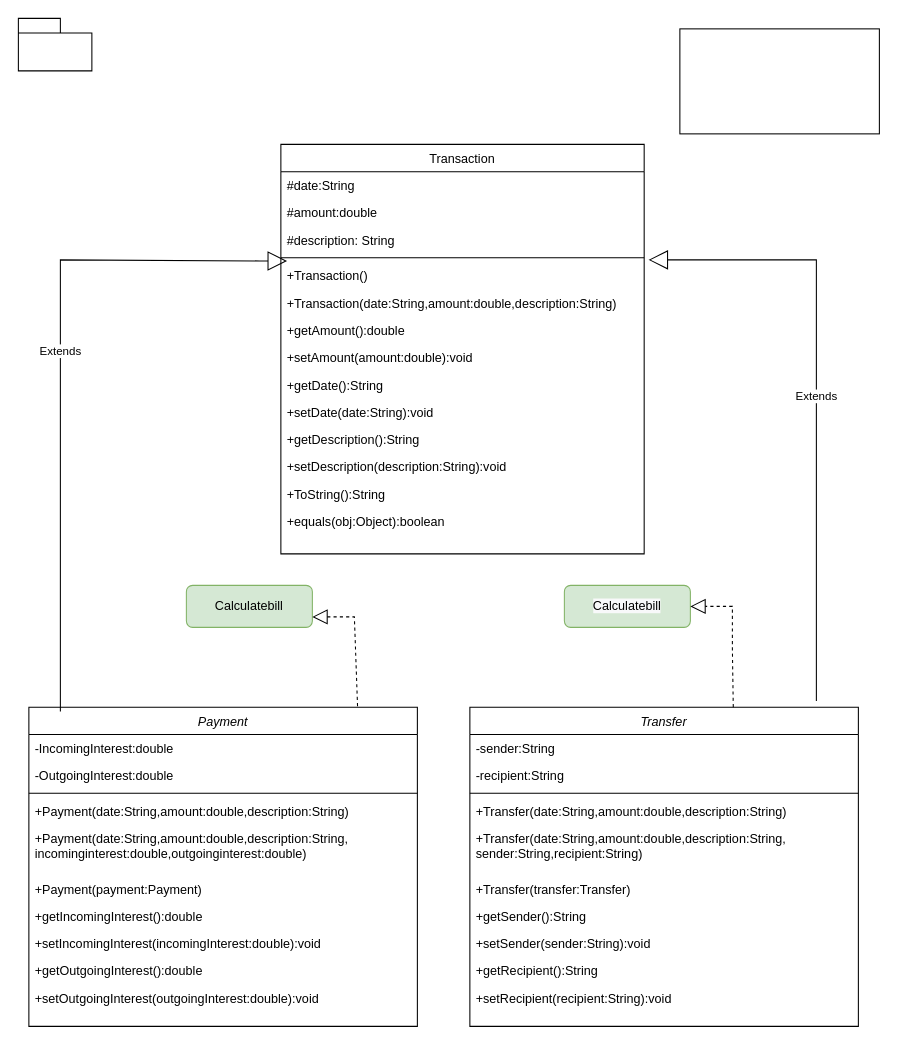
Image size: 898x1045. Some labels were removed from this diagram. The box of each missing label's shape, as (x1, y1, x2, y2) in pixels:
<<Interface>> CalculateBill +Calculate():double: (679, 28, 879, 134)
Bank: (17, 17, 92, 71)
